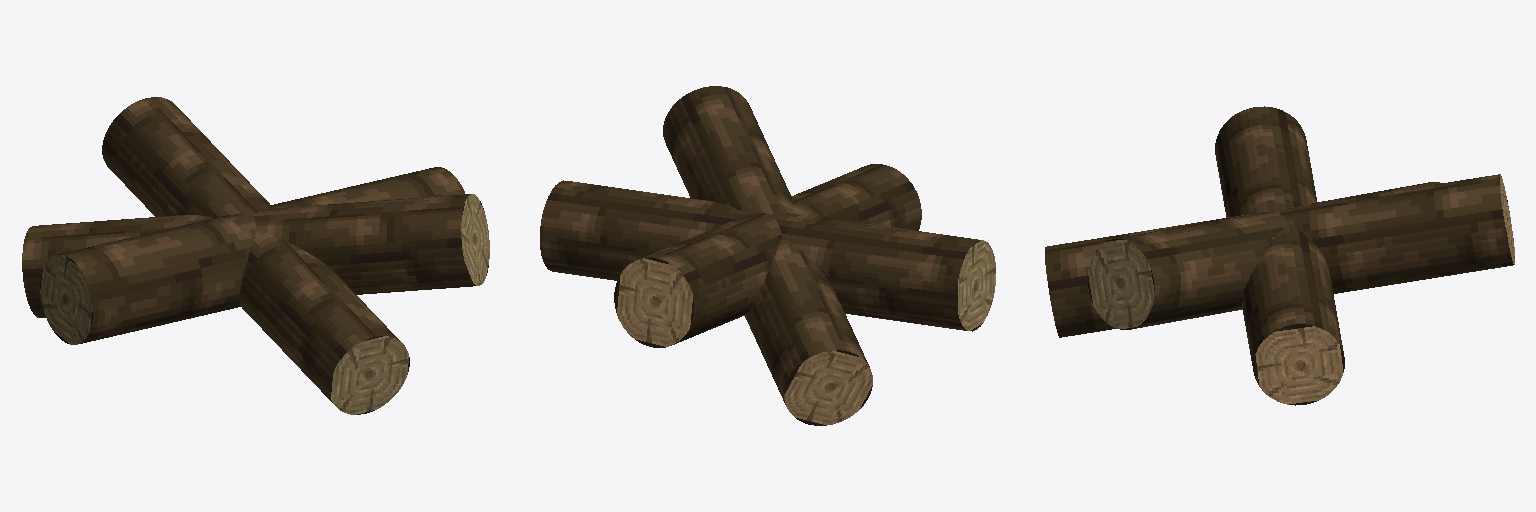
3 views of the same model, side by side, from view 1: azimuth 30°, elevation 25°; view 2: azimuth 150°, elevation 25°; view 3: azimuth 270°, elevation 25° (orthographic).
Parts seen in each view (by area): view 1: Cylinder, Cylinder.002, Cylinder.001; view 2: Cylinder.002, Cylinder.001, Cylinder; view 3: Cylinder, Cylinder.002, Cylinder.001.
Boxes of the visible parts, box(x1,y1,x2,y2) form: Cylinder: box(102, 97, 409, 414); Cylinder.002: box(40, 167, 464, 344); Cylinder.001: box(22, 194, 489, 317); Cylinder.002: box(540, 180, 995, 331); Cylinder.001: box(663, 86, 872, 425); Cylinder: box(614, 164, 921, 347); Cylinder: box(1045, 174, 1514, 337); Cylinder.002: box(1215, 106, 1344, 405); Cylinder.001: box(1088, 182, 1440, 329).
Size of the model in its own units: 1.84 by 0.7012 by 1.85.
Materials: 1 (1 with a texture image).